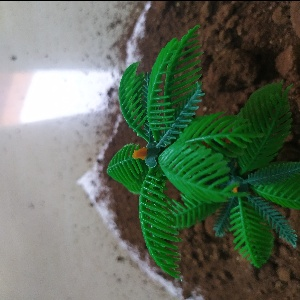plant: (101, 32, 225, 297), (202, 77, 300, 265)
